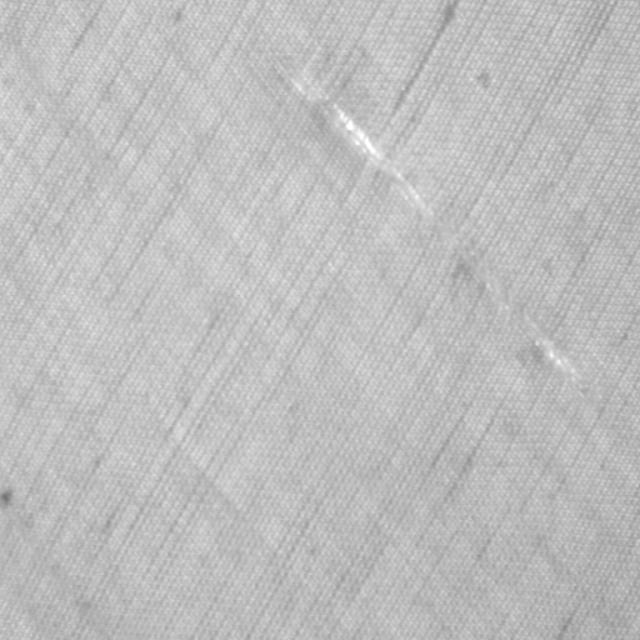thread error: (271, 52, 582, 382)
